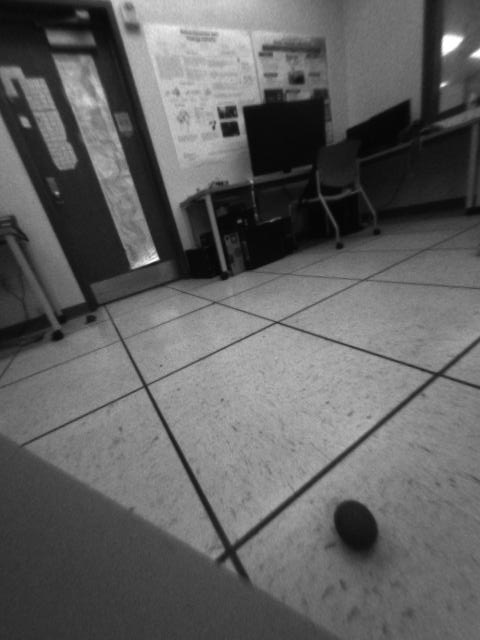dogtoy: (325, 487, 387, 563)
